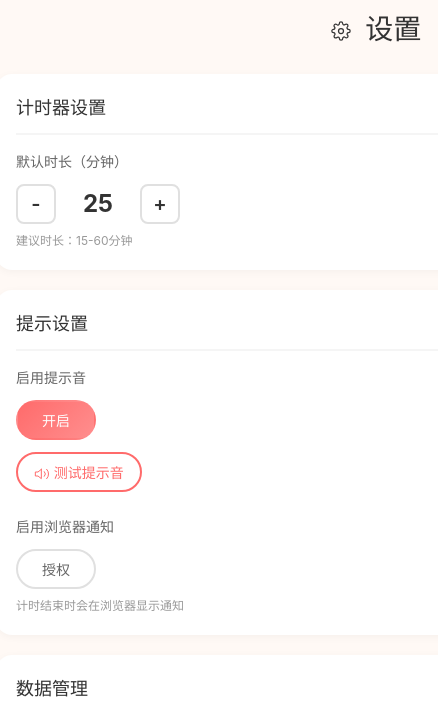
Settings Component › 时长调整 › 应该能减少时长
The width and height of the screenshot is (438, 708).
Click the button "-": (36, 204) [16, 184, 56, 224]
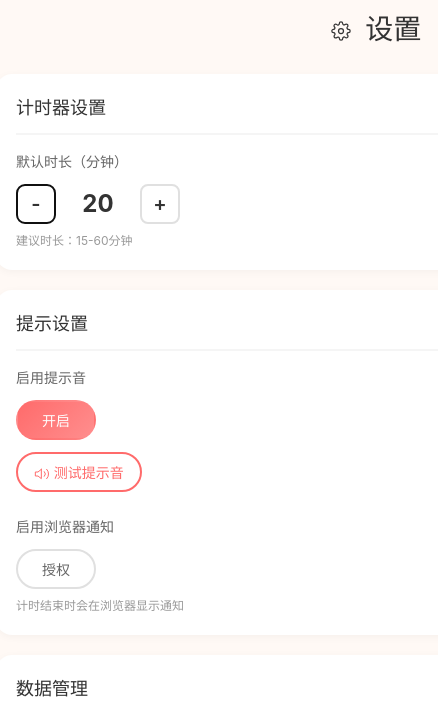
Now the text "20" is shown, box [82, 189, 114, 218]
